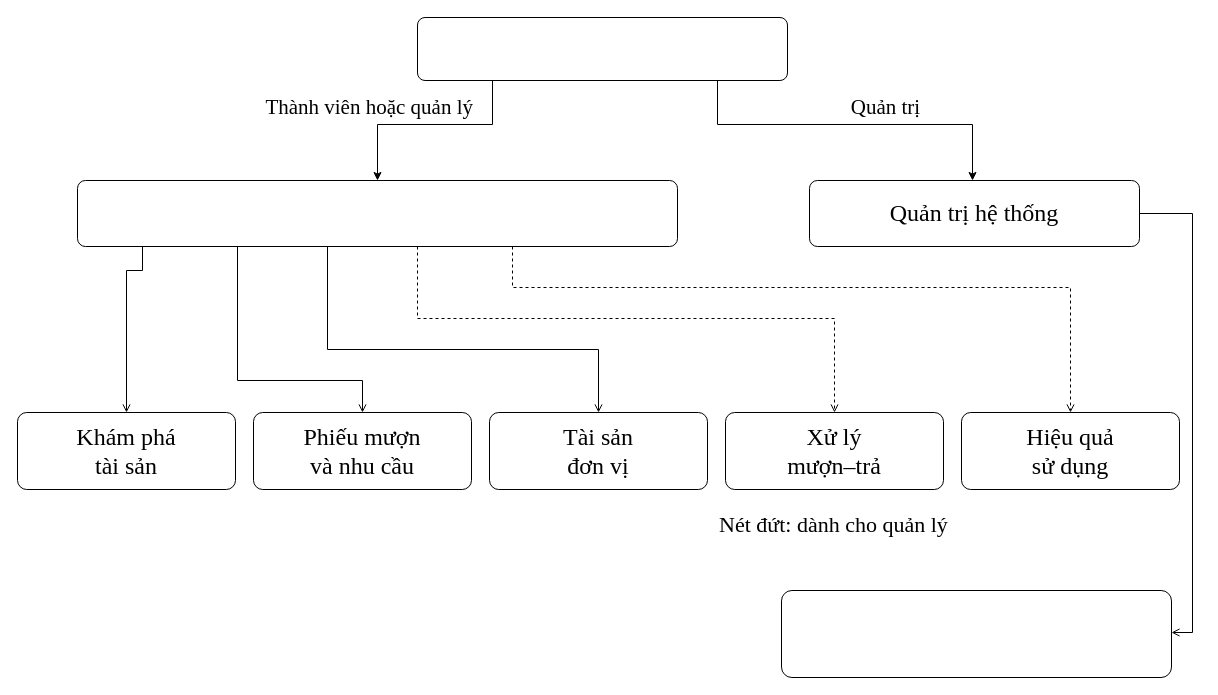
This 1218x695 diagram has some shape labels left out. The shapes that lost their labels are listed below. From the top down, each one's centre as x and y in pixels, then its label:
At point 602,48: "Đăng nhập".
At point 377,213: "Tổng quan của thành viên và quản lý".
At point 976,634: "Tài khoản, đơn vị, loại, địa điểm và chính sách".
